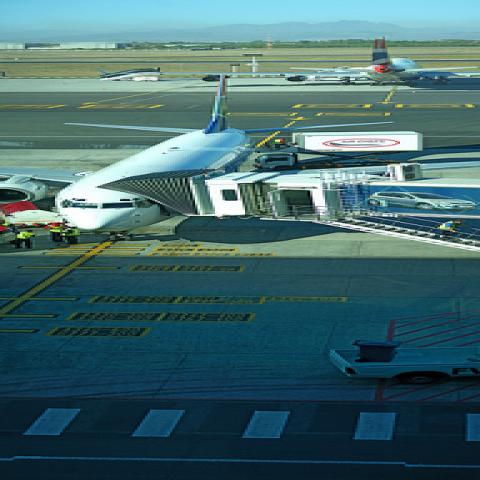car: (363, 191, 477, 210), (0, 224, 19, 246)
truck: (322, 342, 478, 388), (252, 153, 418, 171)
